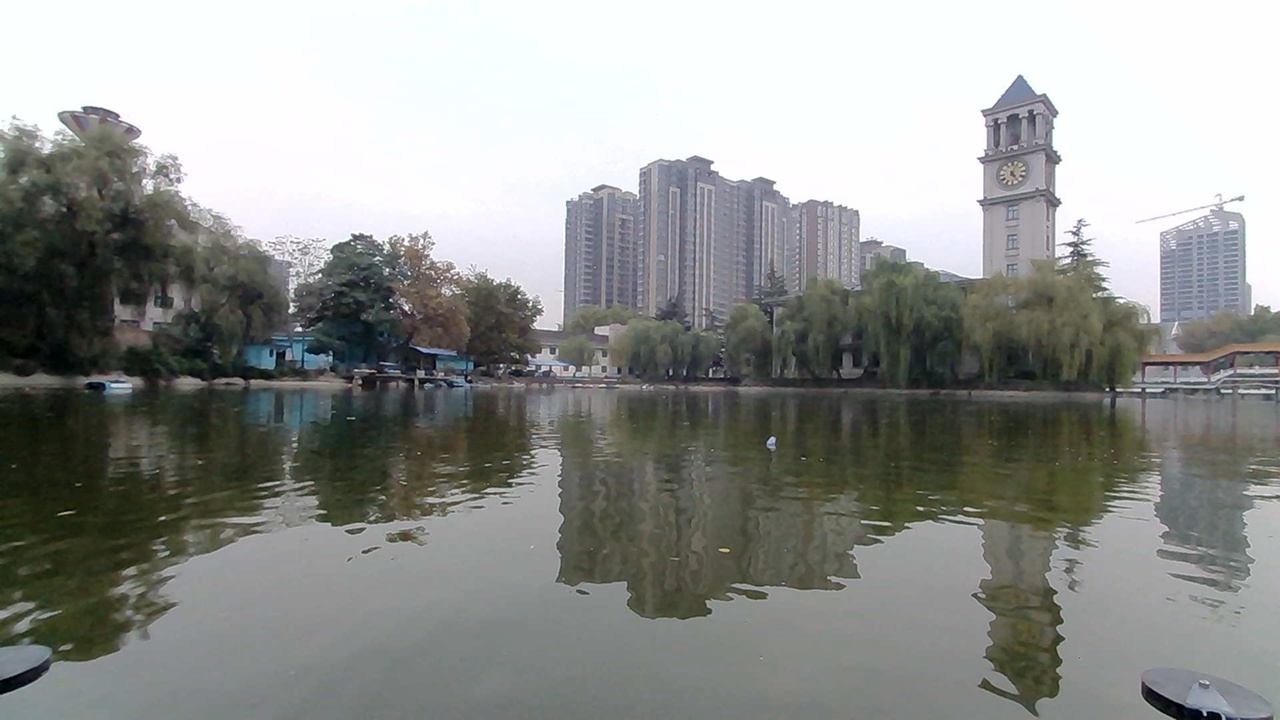bottle: (747, 423, 799, 455)
